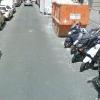Motorcycle: (59, 20, 100, 76)
